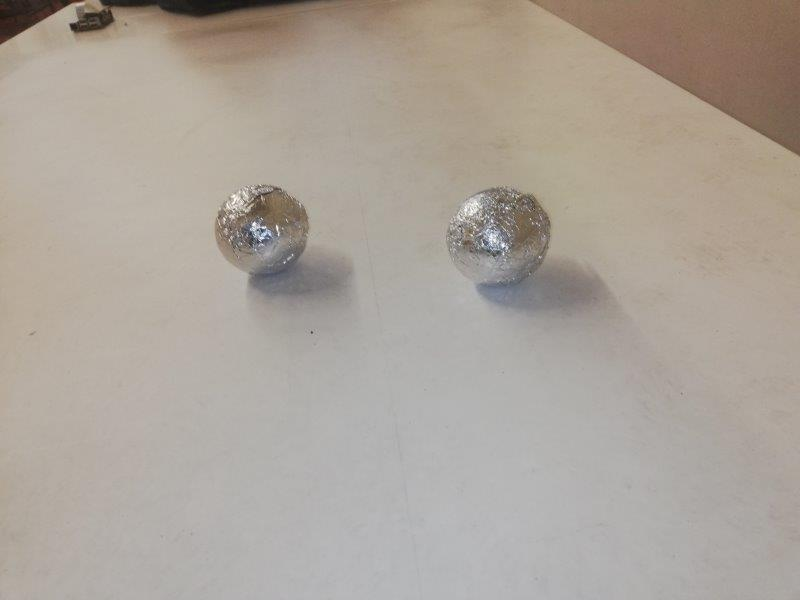bianca: (445, 186, 552, 287), (213, 185, 309, 275)
